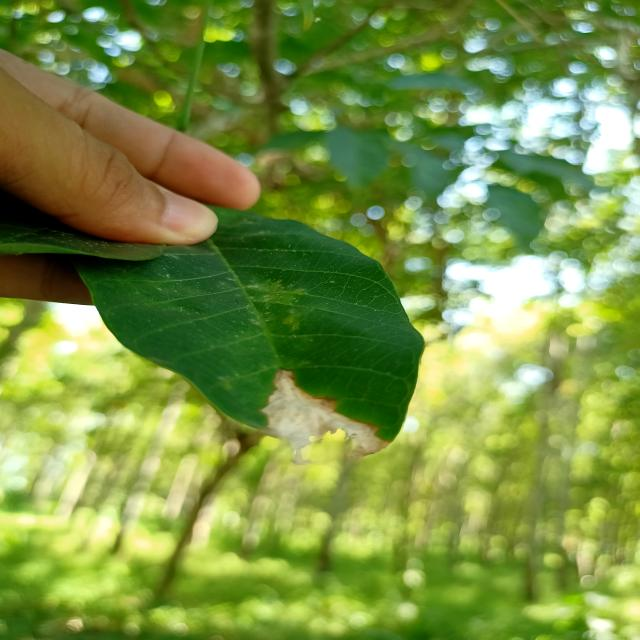Leaf-Blight: (260, 369, 388, 466)
